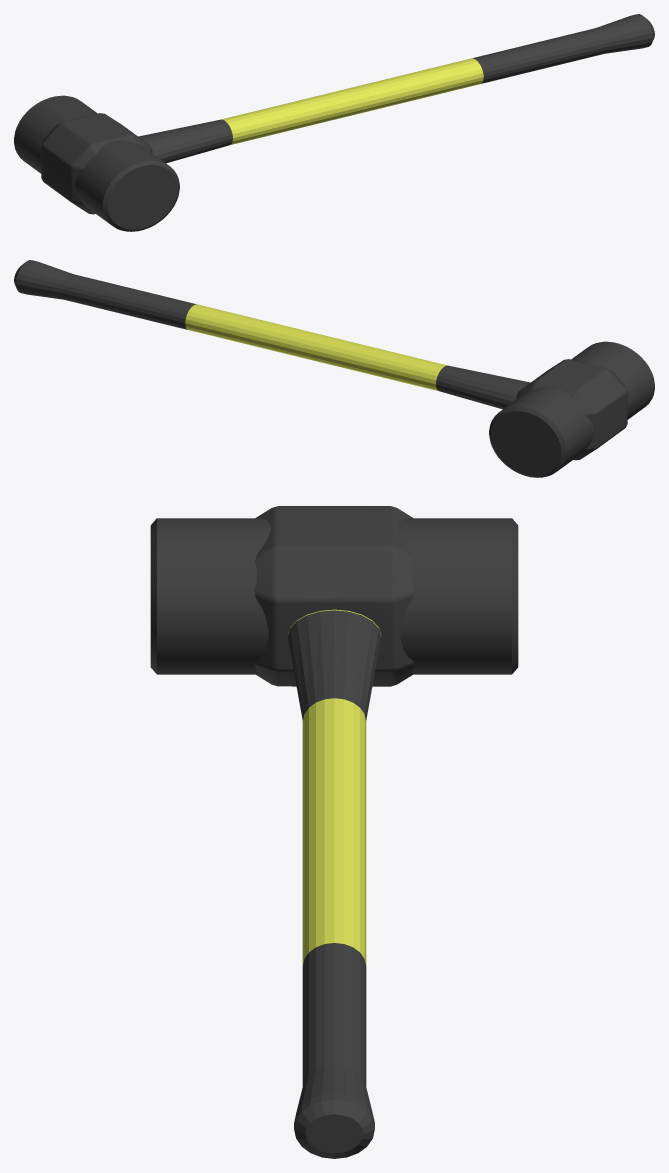
Rendered from Sledgehammer.fbx.
3 renders of one model, top to bottom at view 1: azimuth 30°, elevation 25°; view 2: azimuth 150°, elevation 25°; view 3: azimuth 270°, elevation 25°, orthographic. The views are drawn at different scales.
Visible parts, largest first — view 1: pCylinder2, pCylinder1, pCube1; view 2: pCylinder2, pCylinder1, pCube1; view 3: pCylinder2, pCylinder1, pCube1.
Boxes of the visible parts, <box> form: pCylinder2: <box>138,14,654,163</box>; pCylinder1: <box>14,95,179,231</box>; pCube1: <box>41,113,152,214</box>; pCylinder2: <box>14,260,530,409</box>; pCylinder1: <box>489,341,654,477</box>; pCube1: <box>516,359,627,460</box>; pCylinder2: <box>287,609,381,1158</box>; pCylinder1: <box>150,518,518,674</box>; pCube1: <box>254,506,414,686</box>.
Size of the model in its own units: 138 by 15.8 by 37.06.
